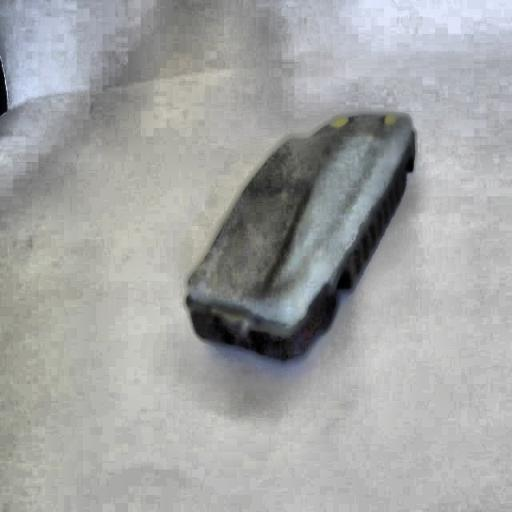normal_car: (180, 109, 418, 368)
